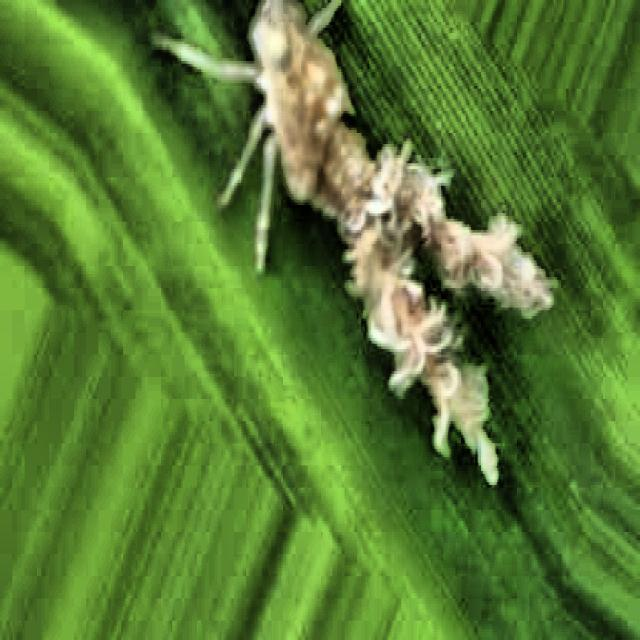Pyrilla-perpusilla: (124, 0, 639, 533)
